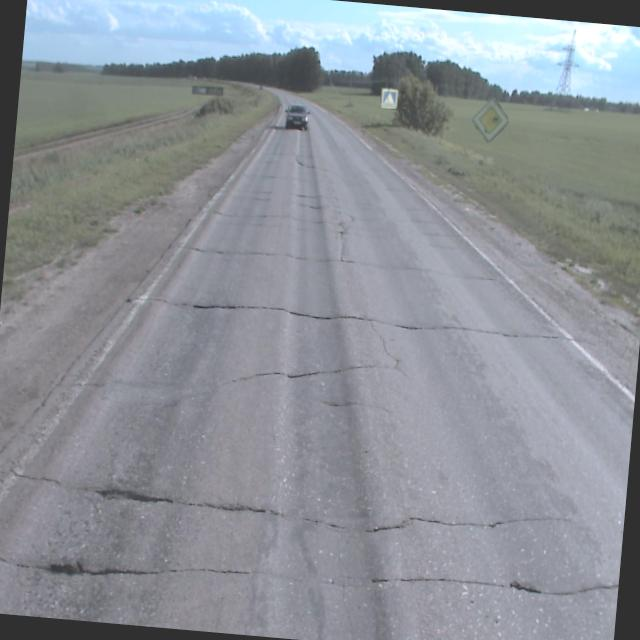road: (0, 116, 634, 640)
